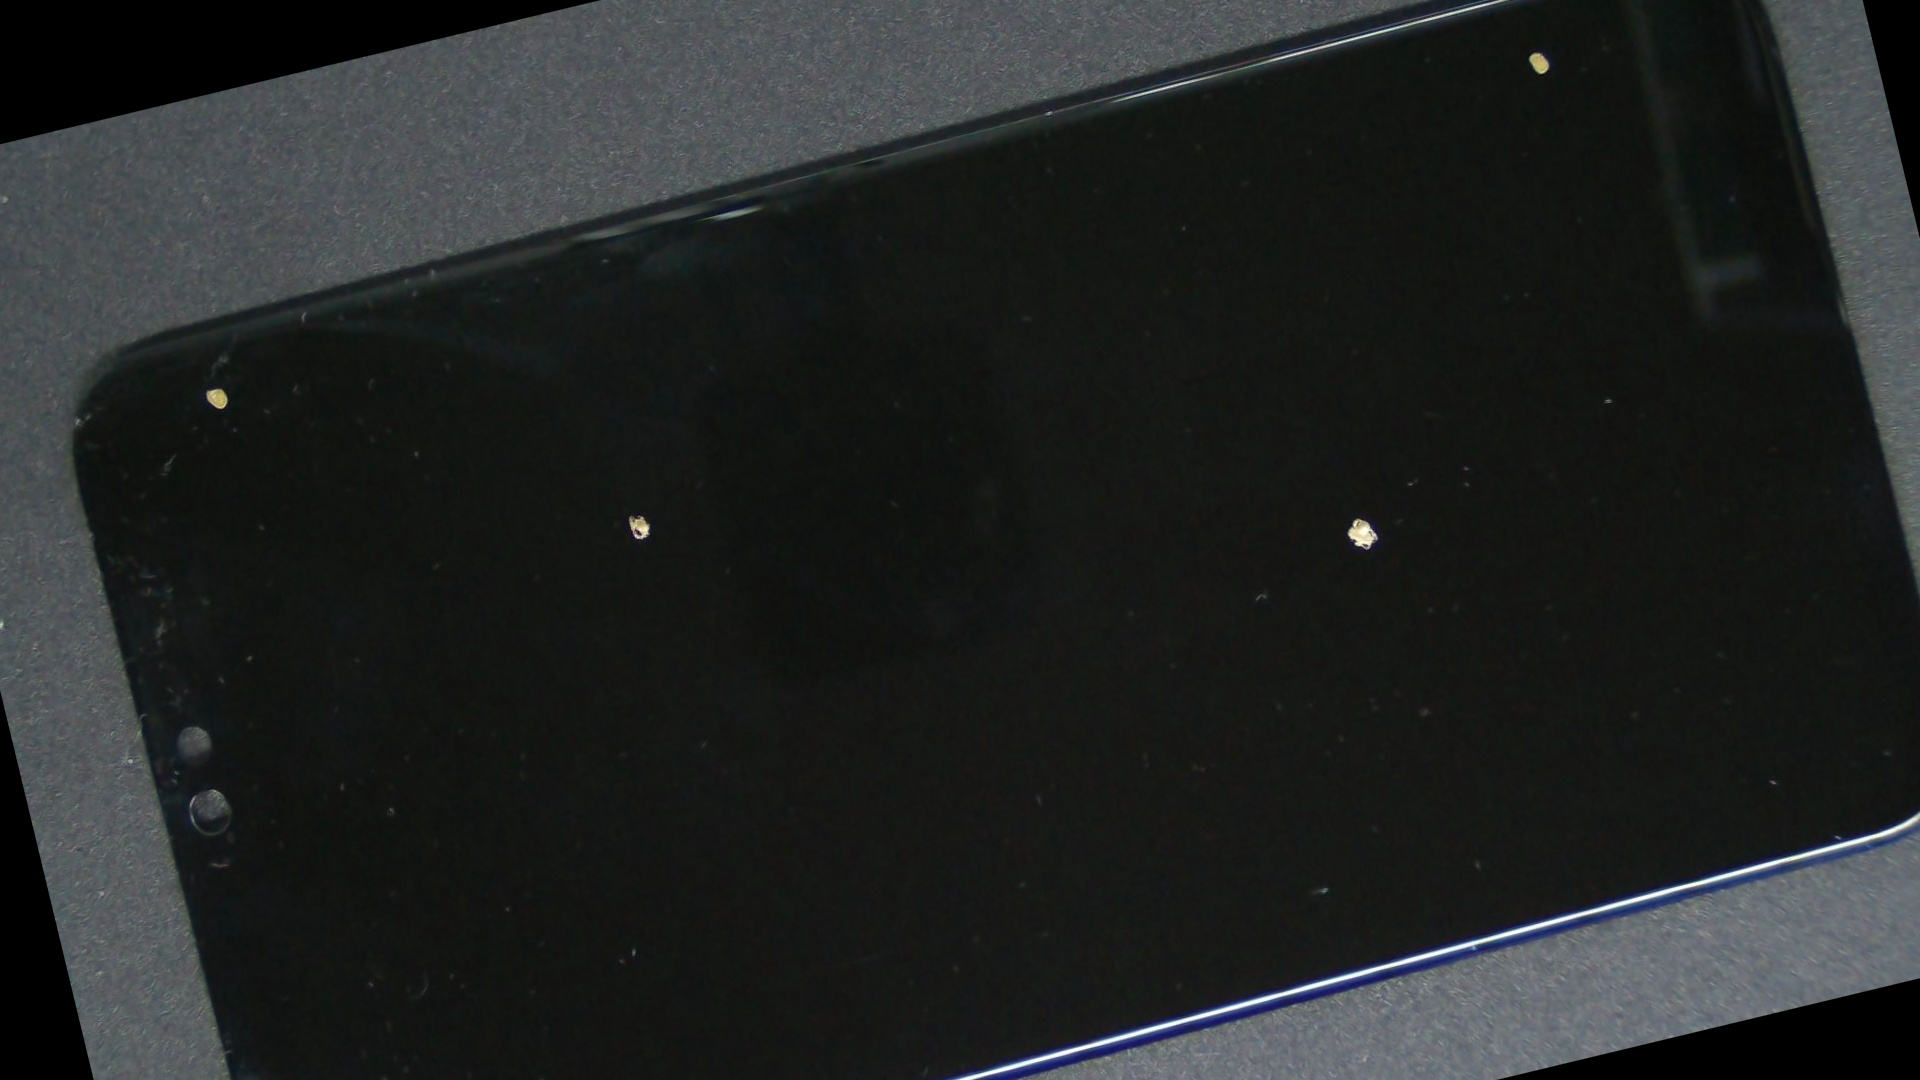oil: (616, 44, 1920, 1007), (253, 191, 1005, 839), (705, 0, 1888, 375), (183, 563, 713, 1080), (42, 218, 372, 562)
